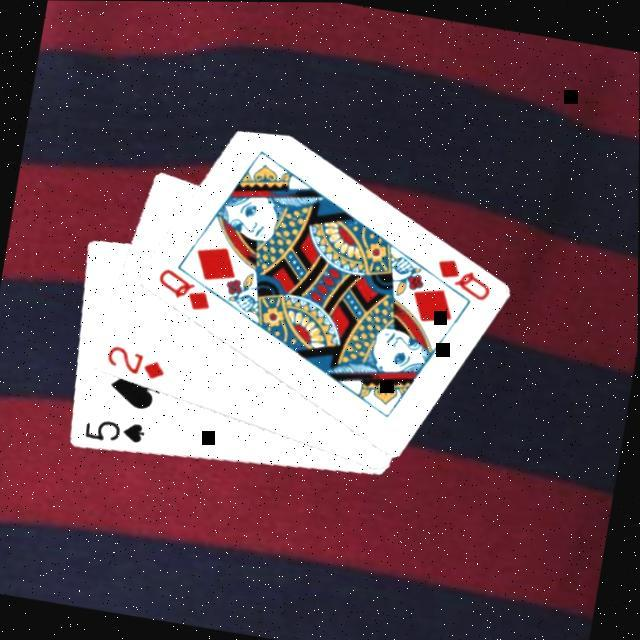2D: (102, 342, 170, 385)
5S: (80, 413, 150, 451)
QD: (429, 254, 499, 305), (151, 265, 219, 316)
